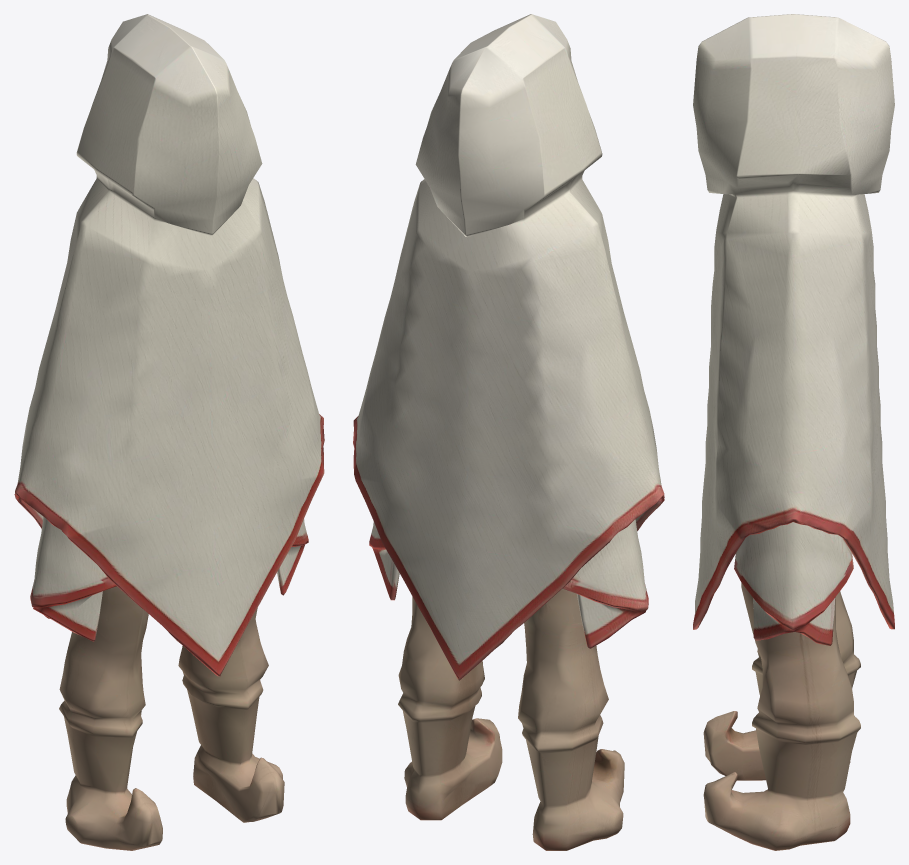
The model's file is explorer-cloak-compressed.glb.
The picture shows the model from 3 angles, left to right: view 1: azimuth 30°, elevation 25°; view 2: azimuth 150°, elevation 25°; view 3: azimuth 270°, elevation 25°; orthographic projection.
Visible parts, largest first — view 1: Mesh_0; view 2: Mesh_0; view 3: Mesh_0.
Boxes of the visible parts, left/top/right/bottom form: Mesh_0: left=14, top=14, right=324, bottom=850; Mesh_0: left=353, top=14, right=664, bottom=850; Mesh_0: left=693, top=14, right=894, bottom=850.
Size of the model in its own units: 0.6946 by 1.7 by 0.3945.
Materials: 1 (1 with a texture image).
